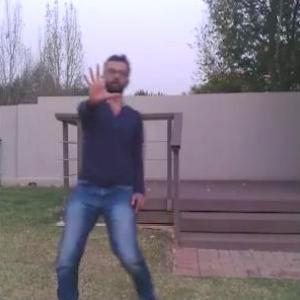follow_hand: (81, 61, 122, 103)
